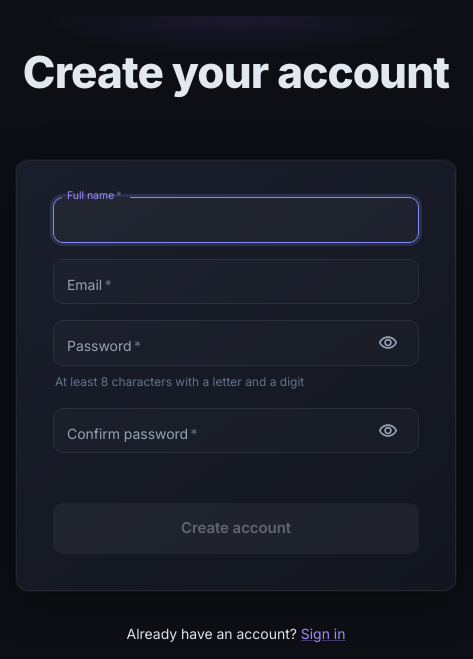
it: RegisterPage › disables the button and shows Creating account… while request is in flight
Type "Alice" into the field labelled "Full name *" at (236, 220), box 53,197 -> 419,243
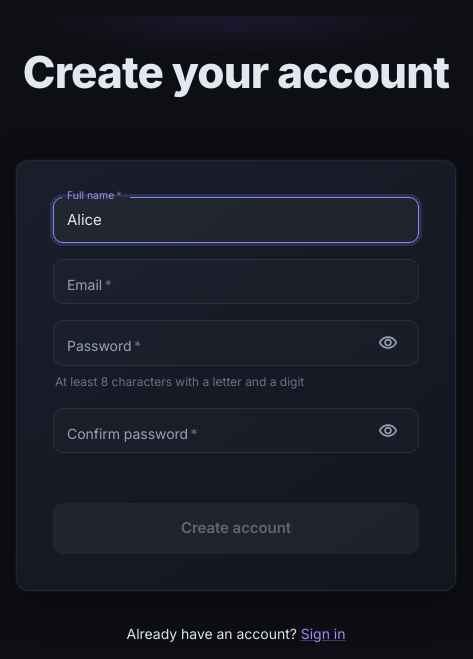
Type "alice@example.com" into the field labelled "Email *" at (236, 282), box 53,259 -> 419,304
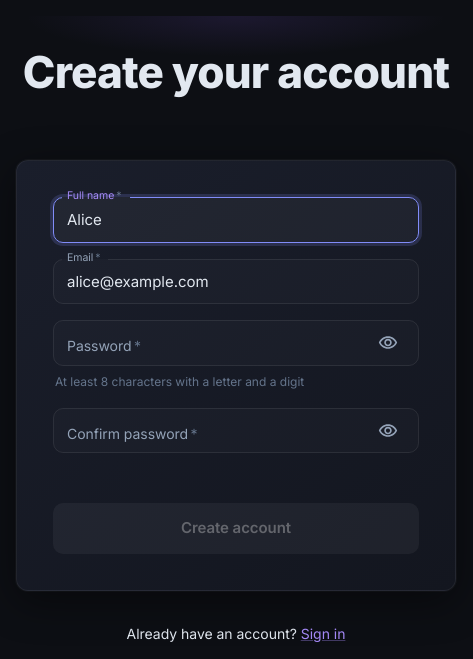
Type "Password1!" into the password field labelled "Password *" at (209, 343), box 53,320 -> 365,366
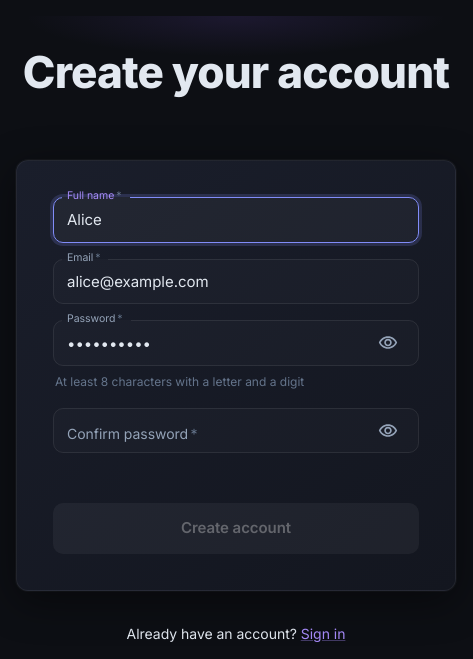
Type "Password1!" into the password field labelled "Confirm password *" at (209, 431), box 53,408 -> 365,453
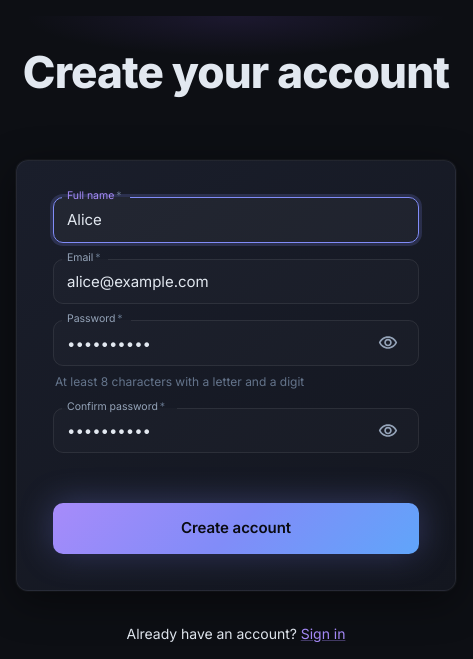
Click the button "Create account" at (236, 528), box 53,503 -> 419,554
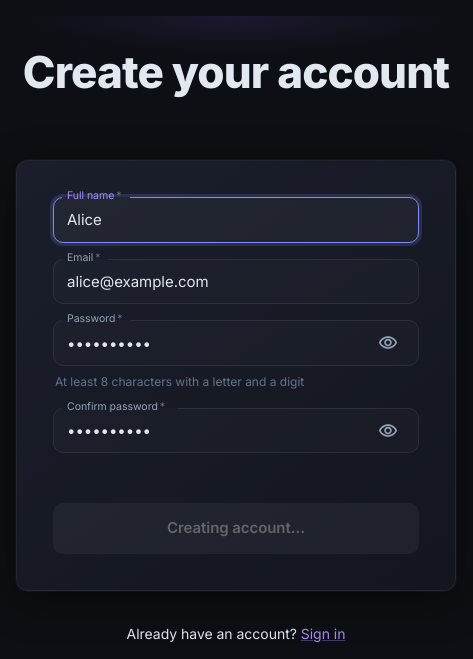
Check: the button "Creating account…" is disabled, box 53,503 -> 419,554
